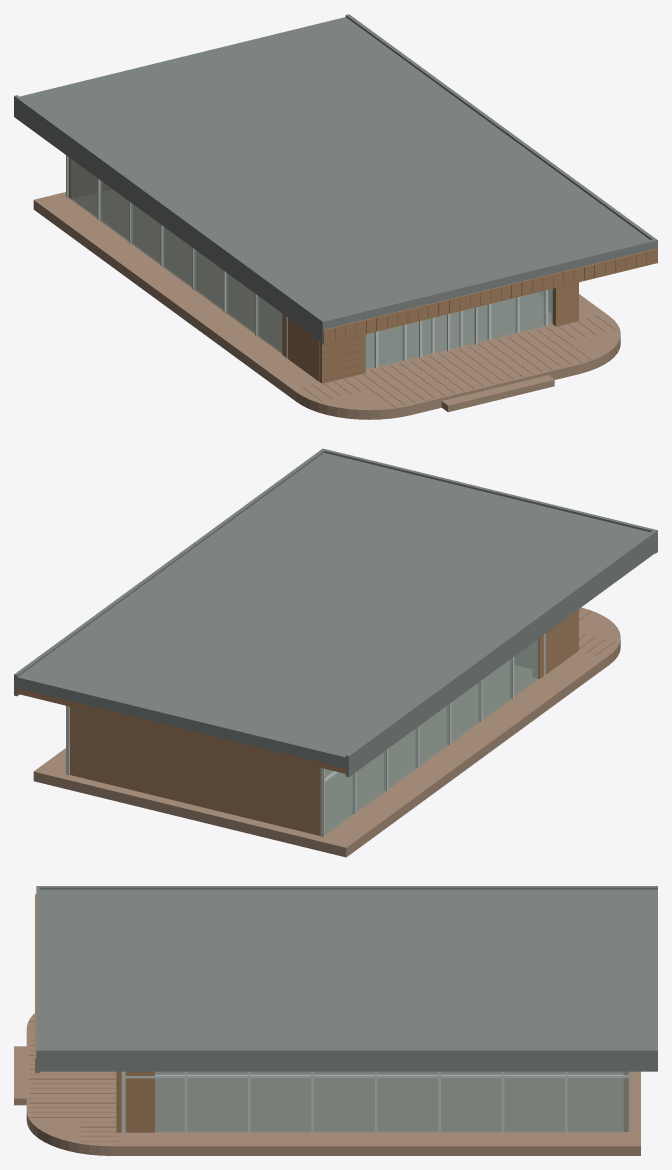
3 views of the same model, one above another, from view 1: azimuth 30°, elevation 25°; view 2: azimuth 150°, elevation 25°; view 3: azimuth 270°, elevation 25° (orthographic).
Parts seen in each view (by area): view 1: n20__roof, n20__deck, n20__deepFasciaL, n20__timberFasciaFront, n20__deepFasciafront, n20__deepFasciaR, n20__timberPortalLeftThick, n20__timberWrapLeft, n20__deckStep, n20__sideGlass-1-2, n20__sideGlass-1-3, n20__sideGlass-1-5 (+12 smaller); view 2: n20__roof, n20__deck, n20__rear, n20__deepFasciaL, n20__soffit, n20__deepFasciaR, n20__timberWrapLeft, n20__sideGlass-1-0, n20__deepFasciafront, n20__sideGlass-1-3, n20__sideGlass-1-1, n20__sideGlass-1-2 (+3 smaller); view 3: n20__roof, n20__deck, n20__deepFasciaR, n20__sideGlass1-3, n20__sideGlass1-0, n20__sideGlass1-5, n20__sideGlass1-4, n20__sideGlass1-1, n20__sideGlass1-2, n20__sideGlass1-6, n20__deepFasciaL, n20__sideRail1-2.35 (+4 smaller).
Boxes of the visible parts, bbox=[...] form: n20__roof: bbox=[20, 17, 649, 319]; n20__deck: bbox=[33, 189, 620, 419]; n20__deepFasciaL: bbox=[14, 95, 326, 342]; n20__timberFasciaFront: bbox=[321, 248, 657, 344]; n20__deepFasciafront: bbox=[321, 239, 657, 329]; n20__deepFasciaR: bbox=[345, 14, 657, 248]; n20__timberPortalLeftThick: bbox=[319, 334, 365, 383]; n20__timberWrapLeft: bbox=[282, 313, 319, 381]; n20__deckStep: bbox=[441, 375, 554, 412]; n20__sideGlass-1-2: bbox=[131, 203, 160, 264]; n20__sideGlass-1-3: bbox=[162, 226, 191, 287]; n20__sideGlass-1-5: bbox=[225, 272, 254, 333]; n20__roof: bbox=[15, 452, 649, 768]; n20__deck: bbox=[33, 607, 620, 857]; n20__rear: bbox=[70, 706, 325, 835]; n20__deepFasciaL: bbox=[345, 530, 657, 777]; n20__soffit: bbox=[15, 688, 347, 774]; n20__deepFasciaR: bbox=[14, 448, 325, 696]; n20__timberWrapLeft: bbox=[532, 611, 576, 678]; n20__sideGlass-1-0: bbox=[325, 769, 354, 835]; n20__deepFasciafront: bbox=[322, 448, 657, 532]; n20__sideGlass-1-3: bbox=[419, 704, 448, 765]; n20__sideGlass-1-1: bbox=[356, 750, 385, 811]; n20__sideGlass-1-2: bbox=[388, 727, 417, 788]; n20__roof: bbox=[40, 889, 657, 1048]; n20__deck: bbox=[26, 1013, 640, 1155]; n20__deepFasciaR: bbox=[36, 1049, 657, 1071]; n20__sideGlass1-3: bbox=[377, 1071, 438, 1132]; n20__sideGlass1-0: bbox=[567, 1071, 628, 1132]; n20__sideGlass1-5: bbox=[250, 1071, 311, 1132]; n20__sideGlass1-4: bbox=[314, 1071, 374, 1132]; n20__sideGlass1-1: bbox=[504, 1071, 564, 1132]; n20__sideGlass1-2: bbox=[441, 1071, 501, 1132]; n20__sideGlass1-6: bbox=[187, 1071, 247, 1132]; n20__deepFasciaL: bbox=[36, 886, 657, 889]; n20__sideRail1-2.35: bbox=[122, 1074, 629, 1078].
Size of the model in its own units: 13.82 by 4.34 by 22.85.
